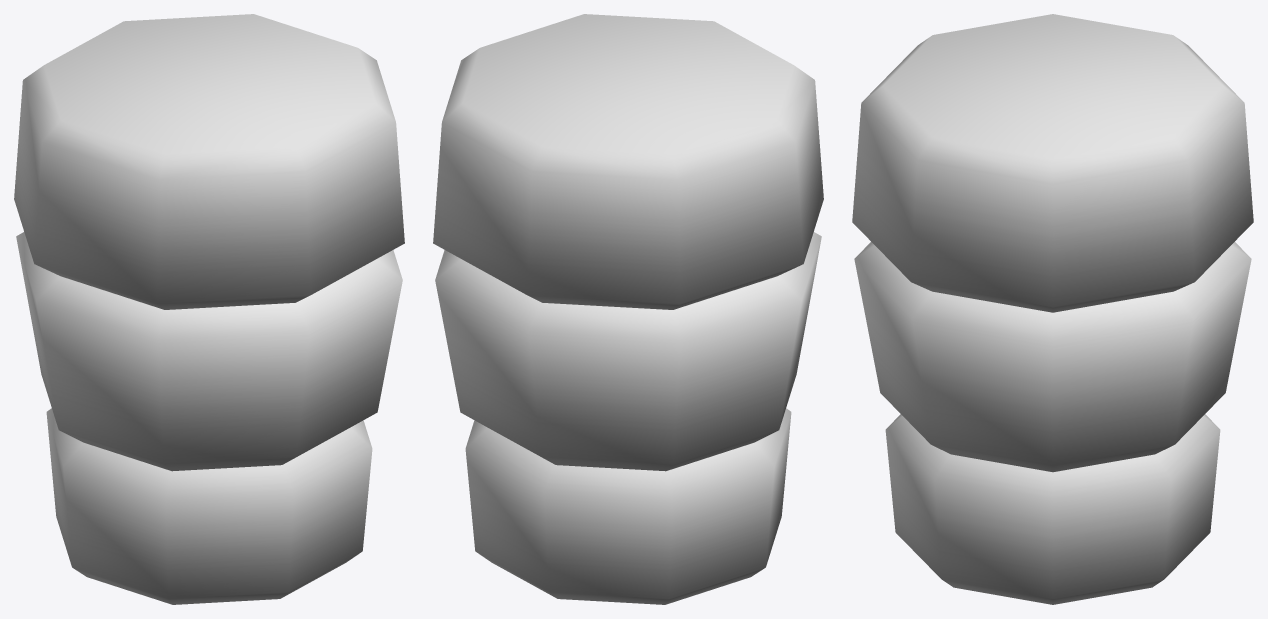
Rendered from stone_grip_053.glb.
3 views of the same model, side by side, from view 1: azimuth 30°, elevation 25°; view 2: azimuth 150°, elevation 25°; view 3: azimuth 270°, elevation 25° (orthographic).
Visible parts, largest first — view 1: stone_grip.053; view 2: stone_grip.053; view 3: stone_grip.053.
Boxes of the visible parts, x1,y1,x2,y2 form: stone_grip.053: [14, 14, 404, 604]; stone_grip.053: [433, 14, 823, 604]; stone_grip.053: [852, 14, 1253, 604].
Size of the model in its own units: 2.37 by 3 by 2.37.
1 material, 1 textured.
